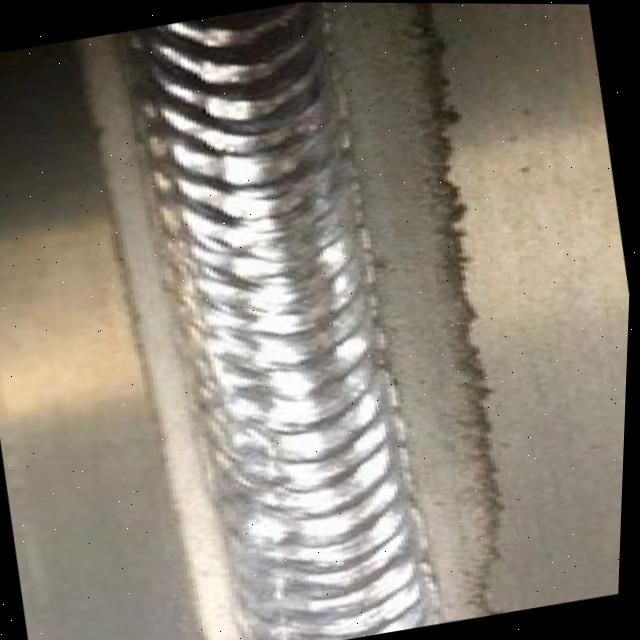Dry: (105, 1, 458, 640)
